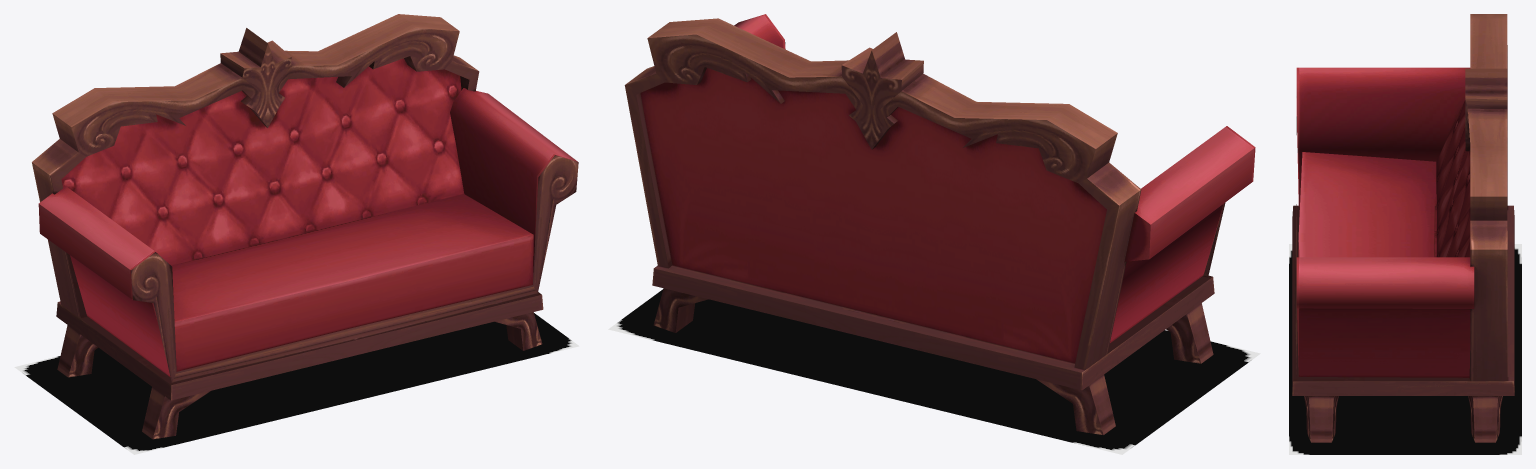
The model's file is jj_ty_shafa01.FBX.
3 renders of one model, left to right at view 1: azimuth 30°, elevation 25°; view 2: azimuth 150°, elevation 25°; view 3: azimuth 270°, elevation 25°, orthographic. The views are drawn at different scales.
Visible parts, largest first — view 1: jj_ty_shafa01, shadow; view 2: jj_ty_shafa01, shadow; view 3: jj_ty_shafa01, shadow.
Boxes of the visible parts, <box> form: jj_ty_shafa01: <box>32,14,578,439</box>; shadow: <box>14,313,579,454</box>; jj_ty_shafa01: <box>624,14,1255,435</box>; shadow: <box>608,289,1260,454</box>; jj_ty_shafa01: <box>1292,14,1514,442</box>; shadow: <box>1289,244,1521,454</box>.
Size of the model in its own units: 204 by 128 by 94.31.
